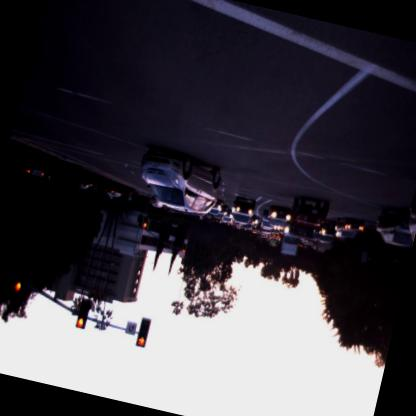trafficlight: (74, 296, 92, 331), (12, 261, 30, 296), (134, 315, 152, 349), (141, 214, 150, 231), (181, 242, 188, 254)
